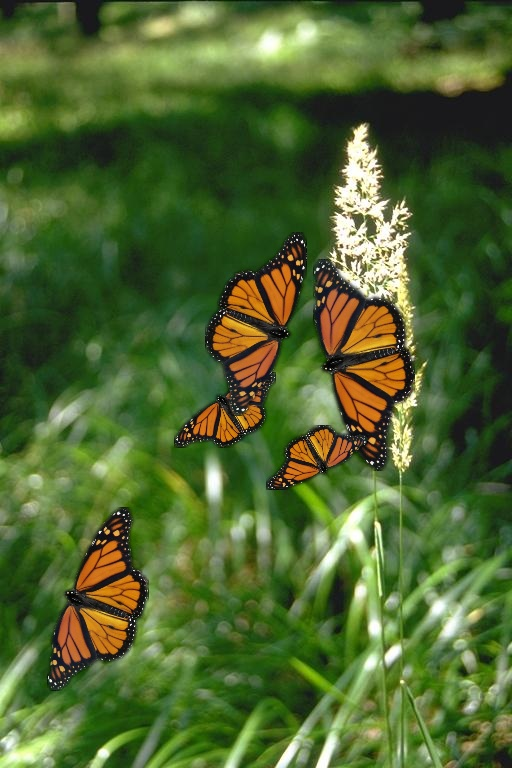danaus_plexippus: (313, 259, 415, 471), (47, 511, 149, 695), (205, 232, 307, 416), (174, 372, 276, 448), (266, 425, 368, 490)
